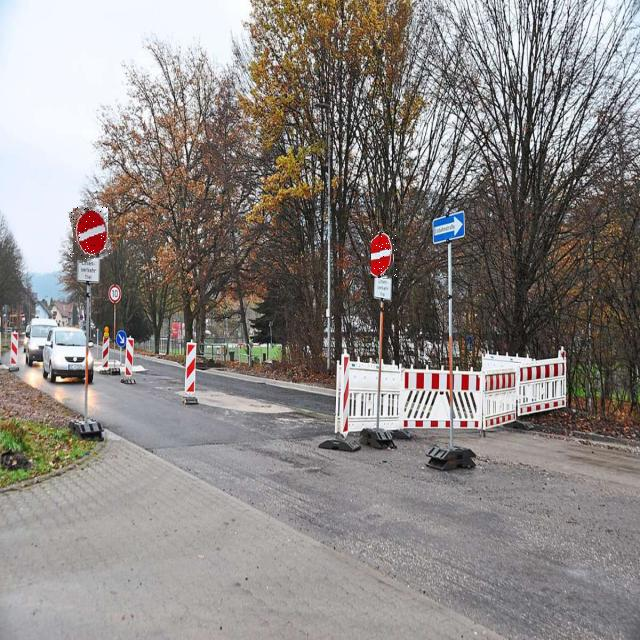no entry: (70, 207, 110, 261), (372, 231, 398, 278)
